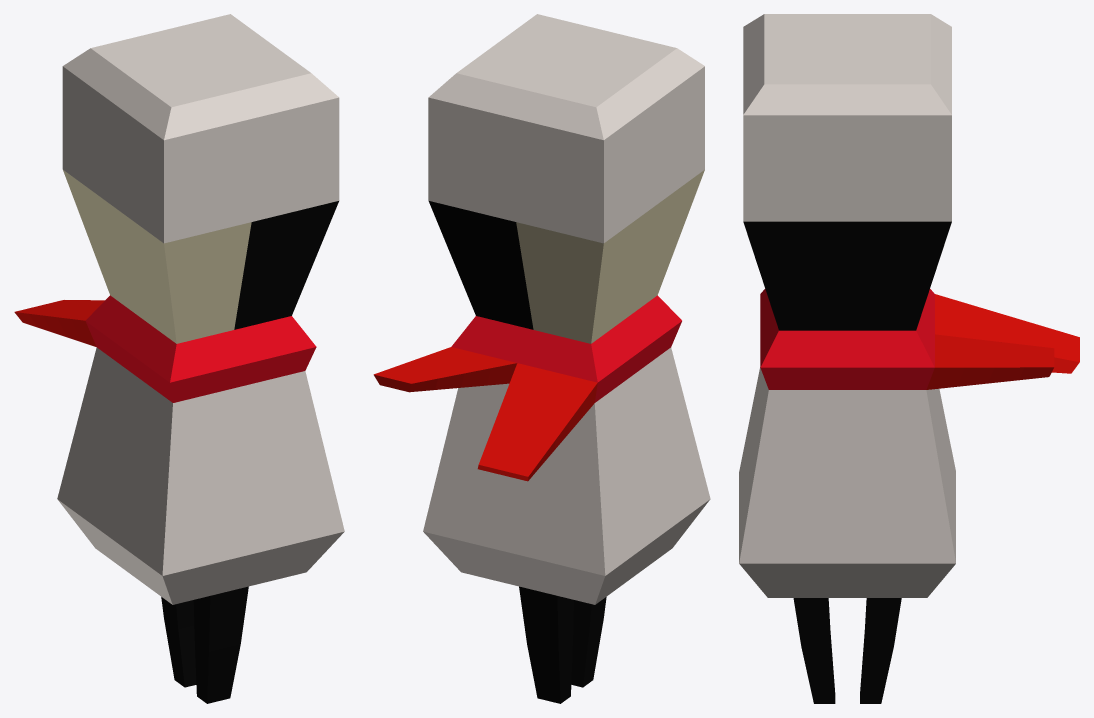
File: character.fbx
The picture shows the model from 3 angles, left to right: view 1: azimuth 30°, elevation 25°; view 2: azimuth 150°, elevation 25°; view 3: azimuth 270°, elevation 25°; orthographic projection. The views are drawn at different scales.
Parts seen in each view (by area): view 1: Character; view 2: Character; view 3: Character.
Part boxes in pixels (box(x1,y1,x2,y2)): Character: box(14, 14, 344, 703); Character: box(373, 14, 710, 703); Character: box(739, 14, 1079, 703).
Bounding box in the file's own units: 3.2 × 4.97 × 10.43.
